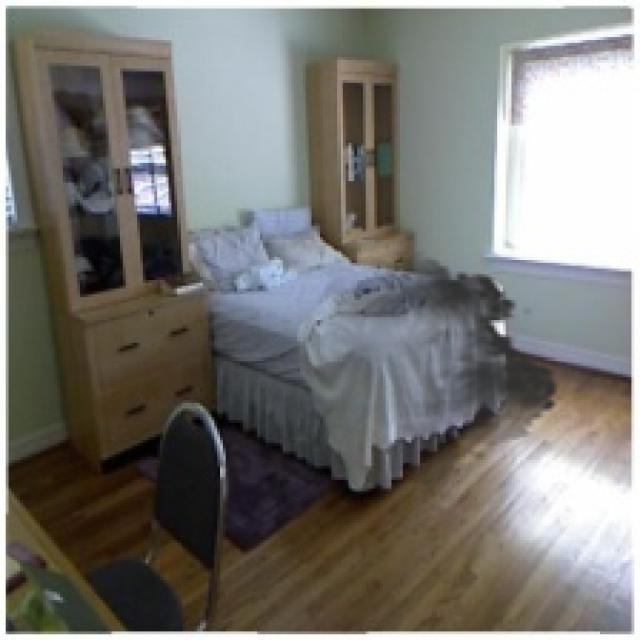smoke: (306, 252, 568, 494)
